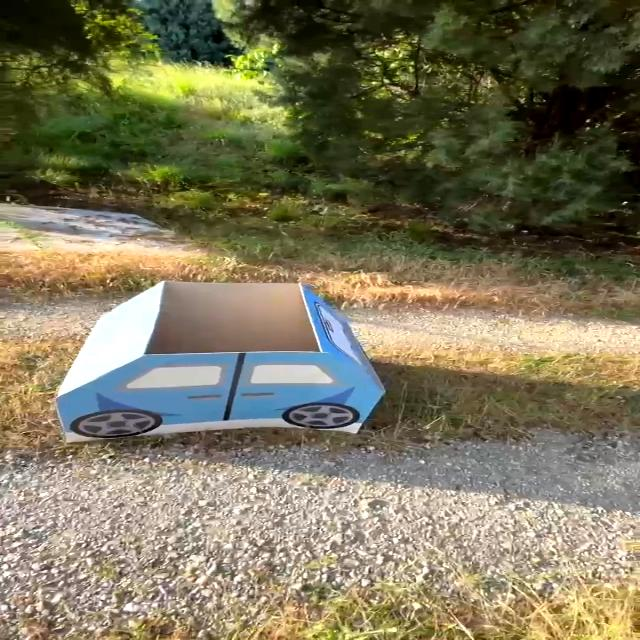blue_car: (27, 252, 411, 473)
